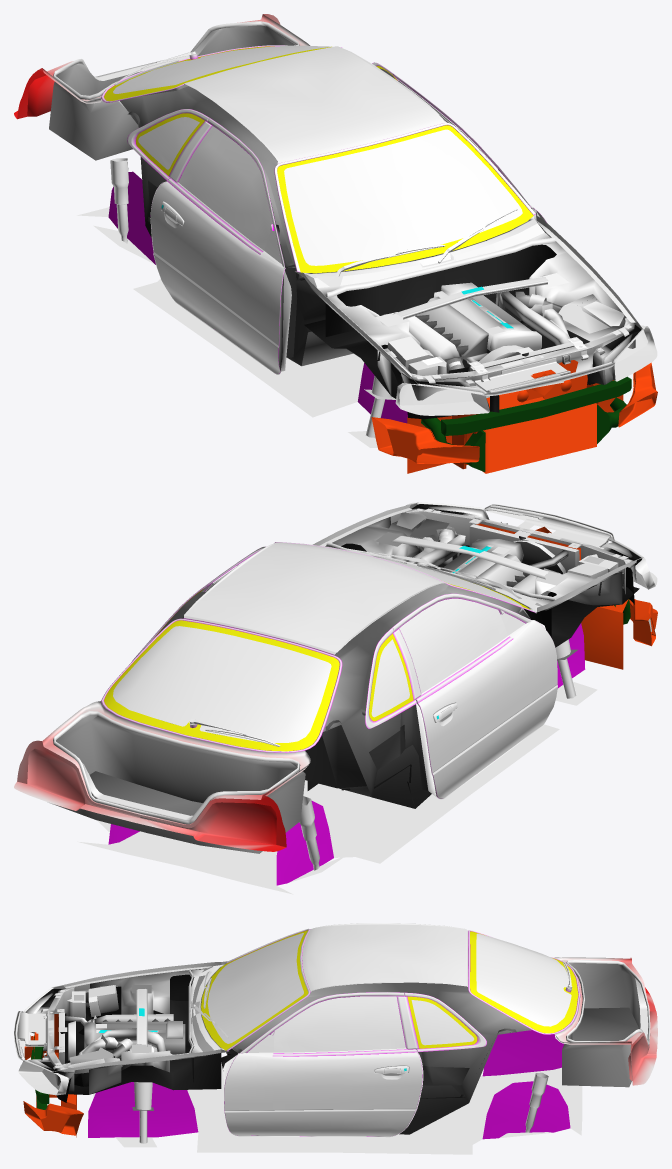
File: Car_Nissan_SkylineGTRVspecR34_1999.fbx
The picture shows the model from 3 angles, top to bottom: view 1: azimuth 30°, elevation 25°; view 2: azimuth 150°, elevation 25°; view 3: azimuth 270°, elevation 25°; orthographic projection. The views are drawn at different scales.
Visible parts, largest first — view 1: Chassis 6, Glass 6, DoorR 4, Interior 5, DoorR_Glass 4; view 2: Chassis 6, Glass 6, DoorR 4, Interior 5, DoorR_Glass 4; view 3: Chassis 6, Glass 6, DoorL 4, Interior 5, DoorL_Glass 4.
Part boxes in pixels (x1=…): Chassis 6: x1=14, y1=14, x2=657, y2=473; Glass 6: x1=104, y1=45, x2=533, y2=273; DoorR 4: x1=150, y1=178, x2=286, y2=373; Interior 5: x1=118, y1=68, x2=539, y2=374; DoorR_Glass 4: x1=178, y1=126, x2=272, y2=250; Chassis 6: x1=14, y1=502, x2=657, y2=894; Glass 6: x1=104, y1=557, x2=530, y2=751; DoorR 4: x1=416, y1=610, x2=557, y2=798; Interior 5: x1=159, y1=559, x2=549, y2=808; DoorR_Glass 4: x1=399, y1=598, x2=507, y2=693; Chassis 6: x1=14, y1=923, x2=657, y2=1154; Glass 6: x1=201, y1=930, x2=578, y2=1050; DoorL 4: x1=224, y1=1031, x2=422, y2=1136; Interior 5: x1=221, y1=982, x2=531, y2=1137; DoorL_Glass 4: x1=274, y1=996, x2=405, y2=1052.
Size of the model in its own units: 1.7 by 1.2 by 4.42.
